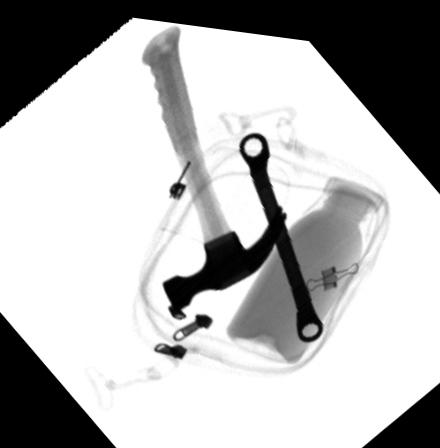Hammer: (138, 18, 289, 305)
Wrench: (237, 124, 321, 334)
